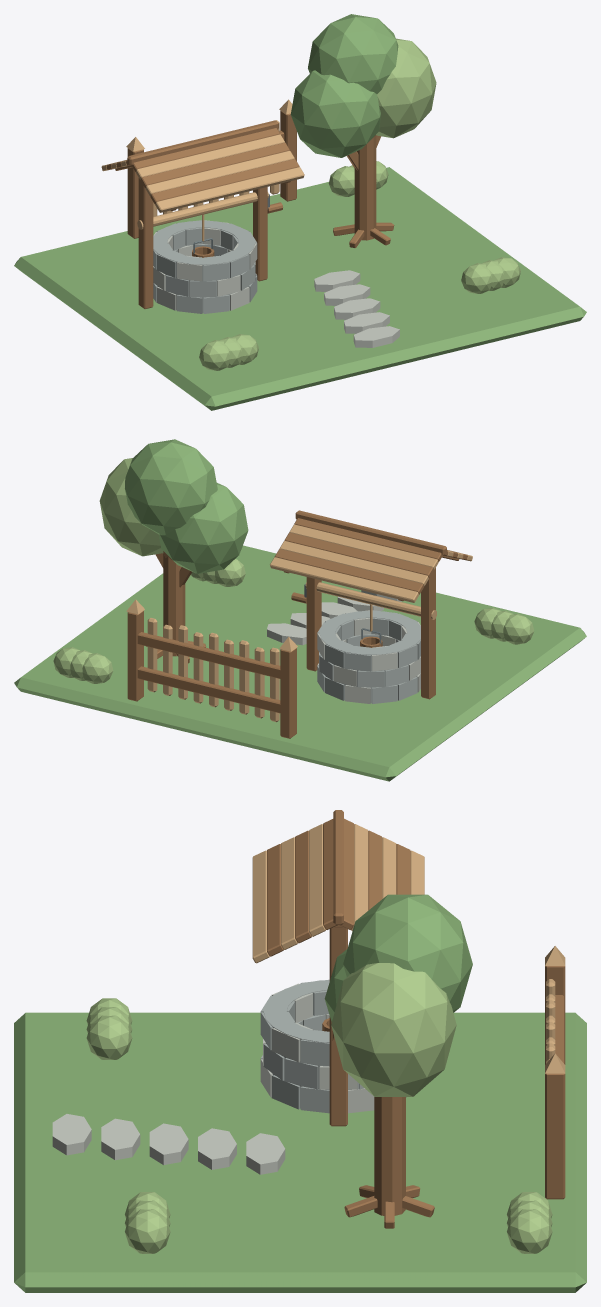
3 renders of one model, top to bottom at view 1: azimuth 30°, elevation 25°; view 2: azimuth 150°, elevation 25°; view 3: azimuth 270°, elevation 25°, orthographic. The views are drawn at different scales.
Parts seen in each view (by area): view 1: village-well-courtyard-01; view 2: village-well-courtyard-01; view 3: village-well-courtyard-01.
Part boxes in pixels (x1,y1,x2,y2): village-well-courtyard-01: (14,14,586,410); village-well-courtyard-01: (14,439,586,781); village-well-courtyard-01: (14,810,586,1292).
Size of the model in its own units: 5 by 2.87 by 4.5.
